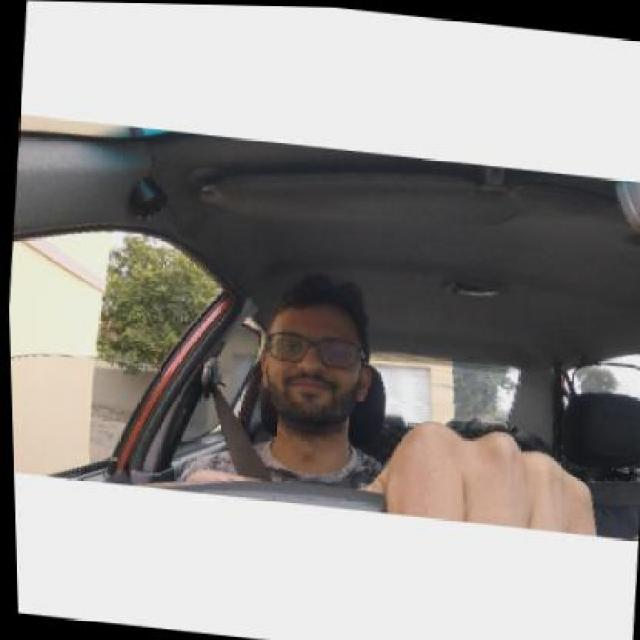person: (258, 269, 384, 442)
